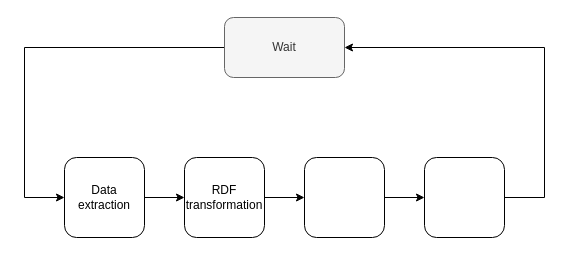
Image size: 570x255. Some labels were removed from this diagram. The centre of each missing label's shape, as x and y in pixels:
Restart Fuseki: point (344, 197)
Restart Lodview: point (464, 197)
